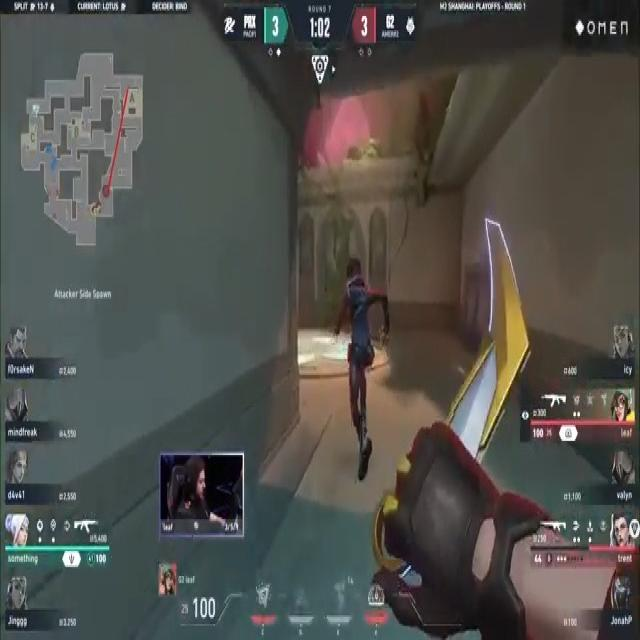enemy: (331, 252, 391, 484)
